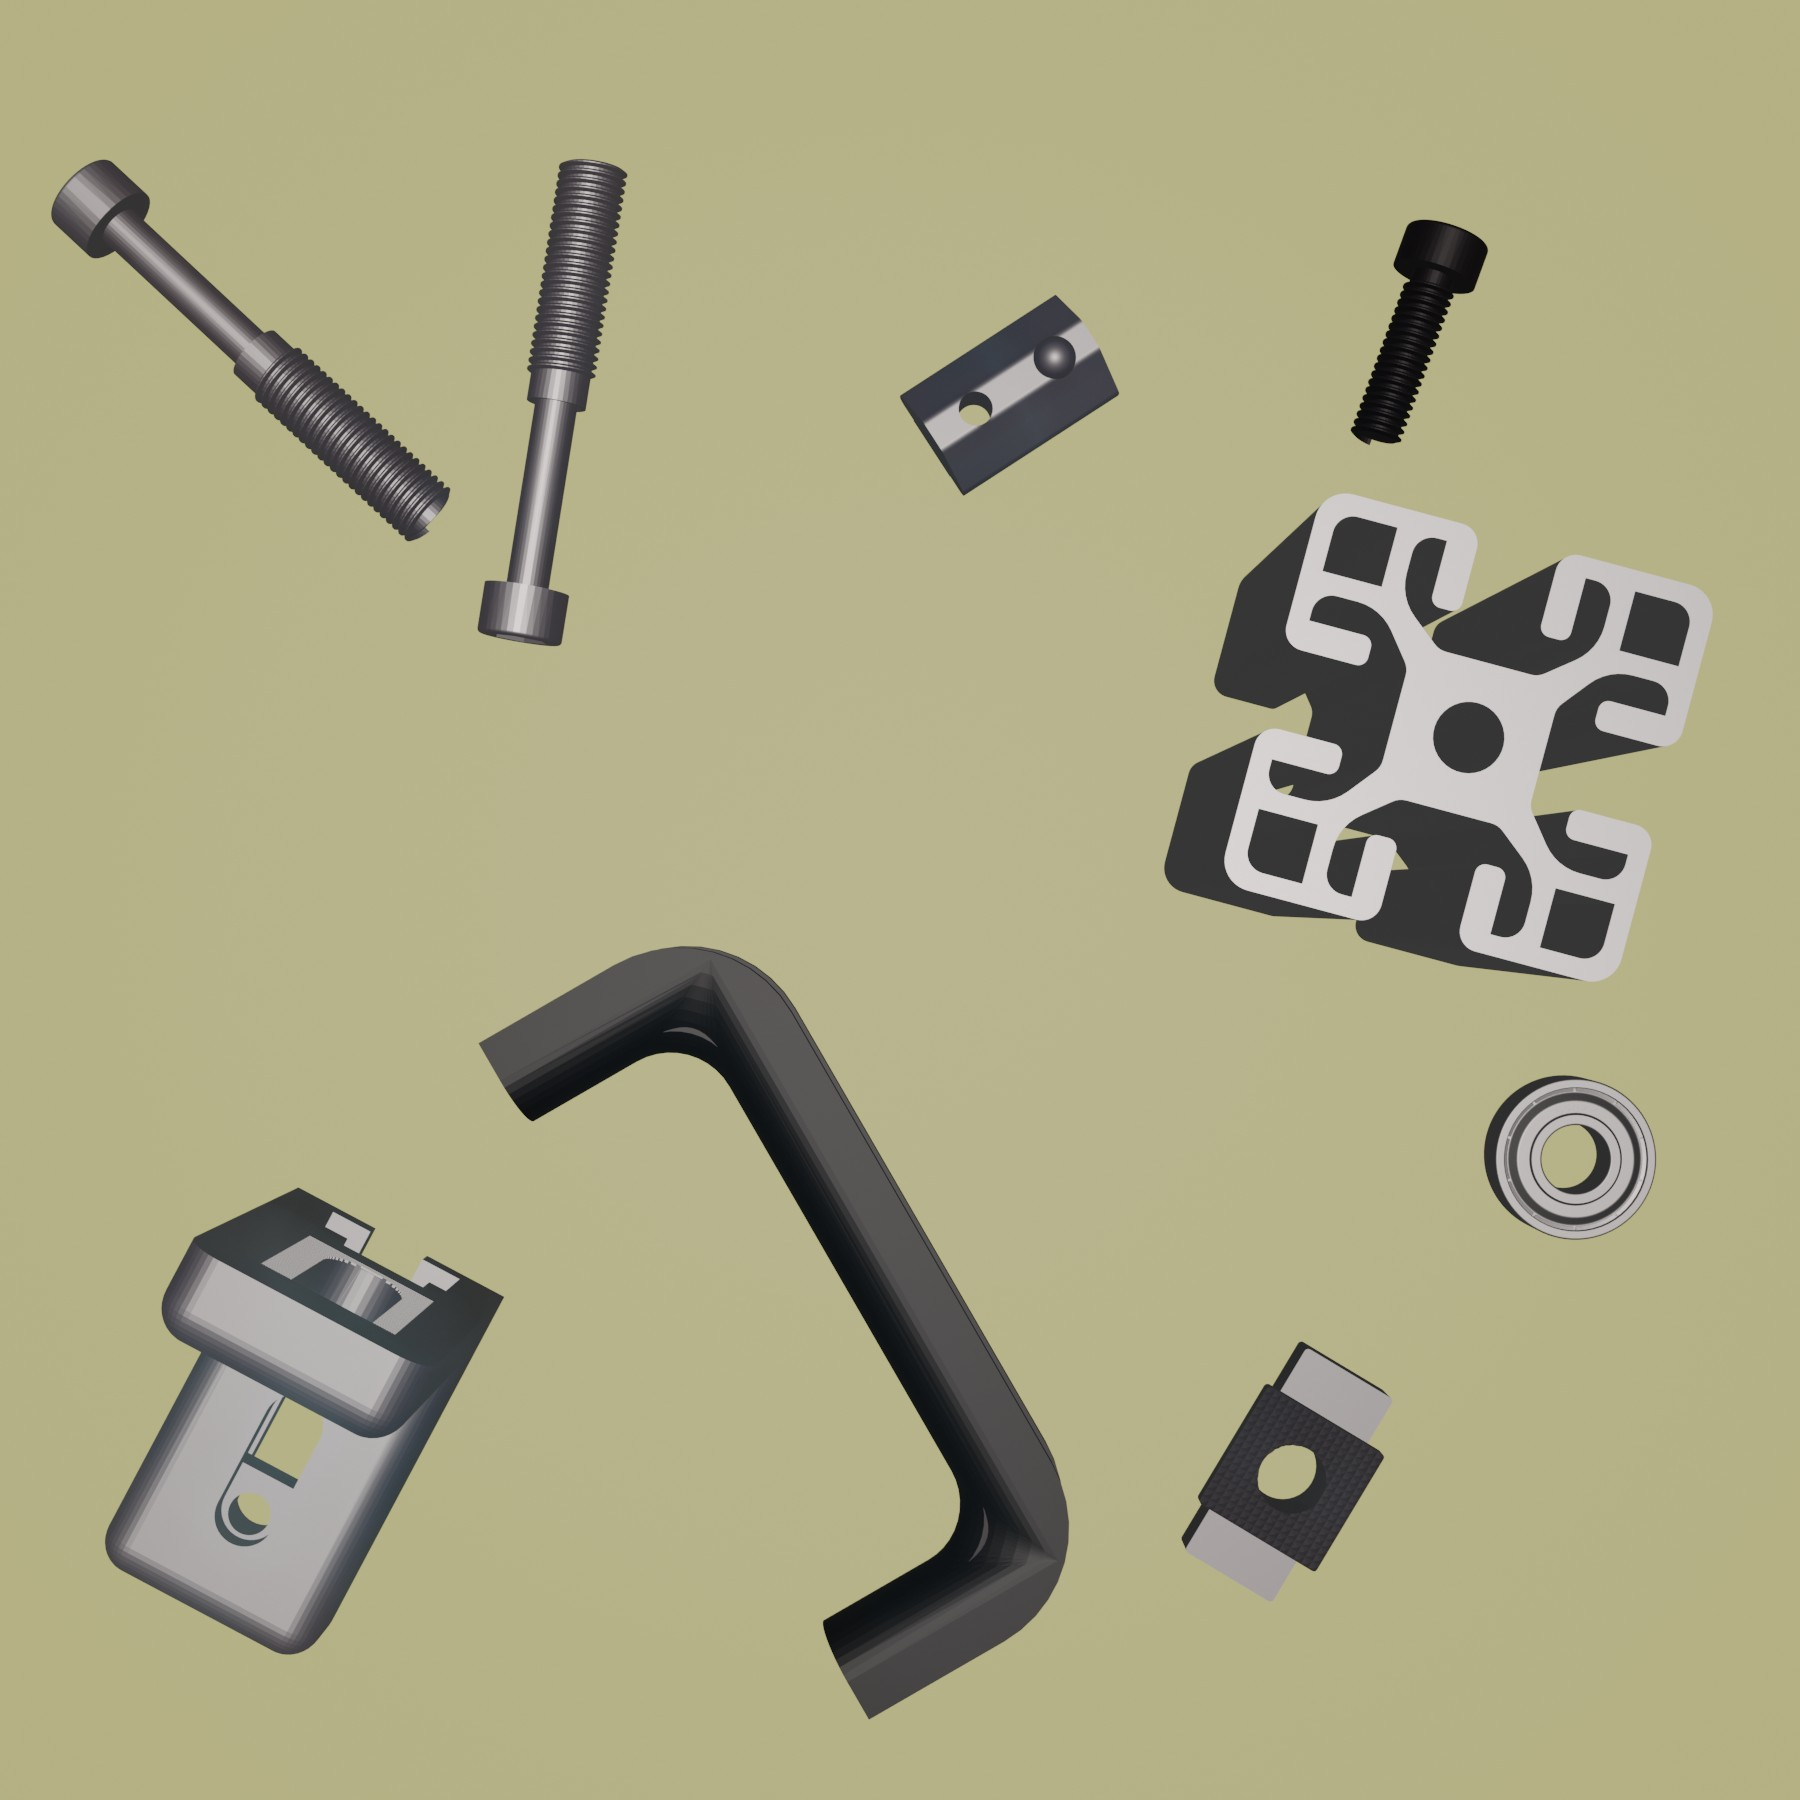Aluminium Extension: (1164, 491, 1719, 986)
Ball Bearing: (1480, 1073, 1658, 1241)
Multiwinkel: (104, 1182, 506, 1657)
Pull Handle: (476, 941, 1071, 1723)
Shoulder Socket Head Cap Screw: (48, 157, 452, 542), (475, 153, 631, 649)
Socket Head Cap Screw: (1348, 216, 1490, 448)
T Nut Square: (1182, 1335, 1395, 1602)
T Spring Nut: (898, 292, 1119, 499)
